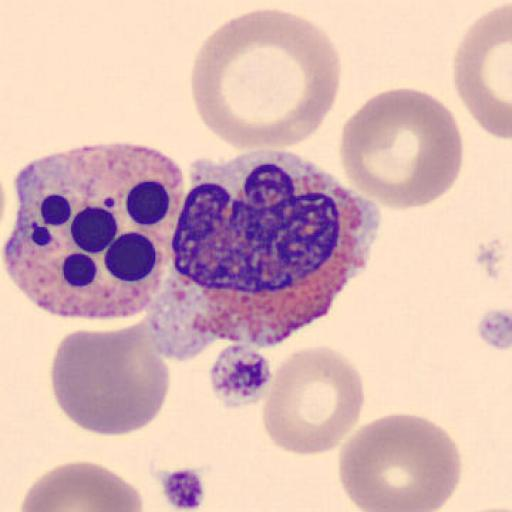Platelet: (206, 343, 275, 410), (155, 462, 211, 512)
RBC: (190, 4, 343, 152), (337, 86, 465, 212), (47, 318, 171, 438), (337, 410, 464, 512), (261, 344, 366, 458), (451, 2, 512, 142), (16, 460, 144, 512)
WBC: (150, 150, 378, 356), (5, 136, 187, 321)
